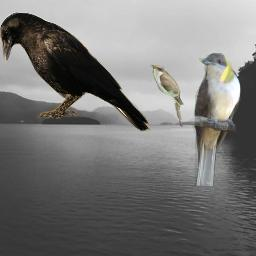Crow: (0, 12, 151, 132)
Cuckoo: (192, 53, 241, 186), (149, 63, 184, 129)
